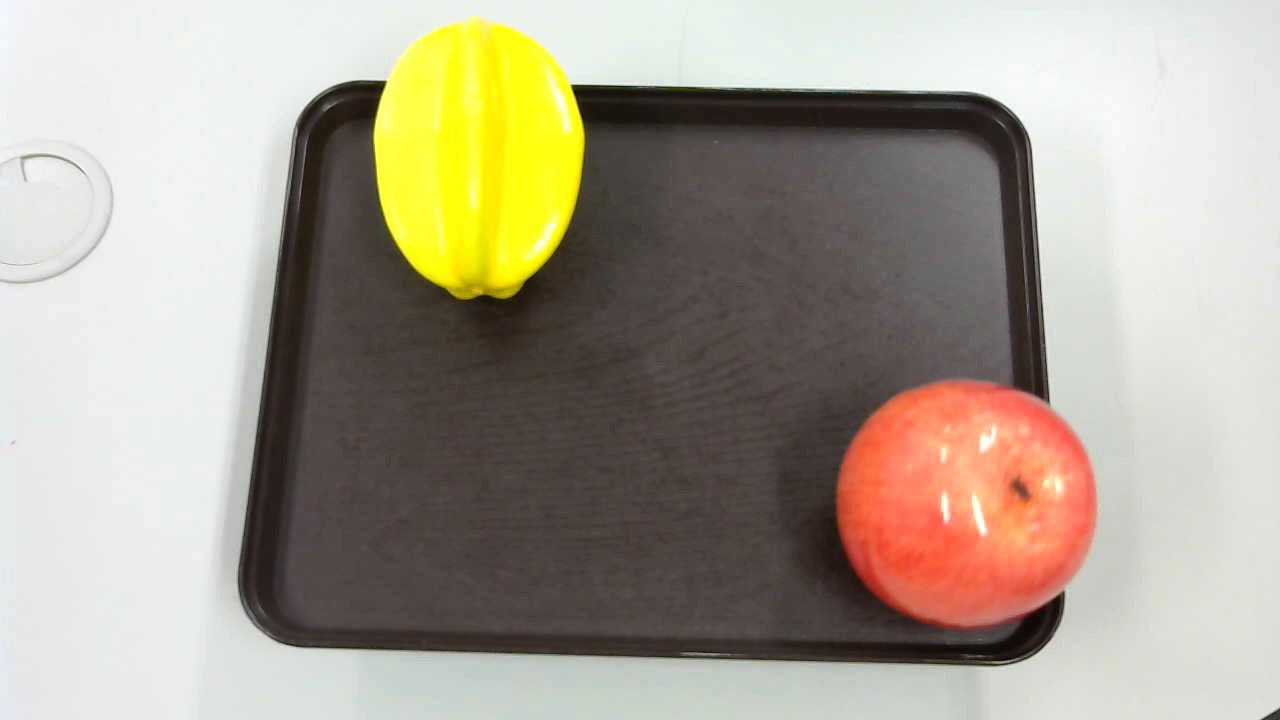red apple: (827, 378, 1100, 637)
star fruit: (377, 13, 587, 320)
